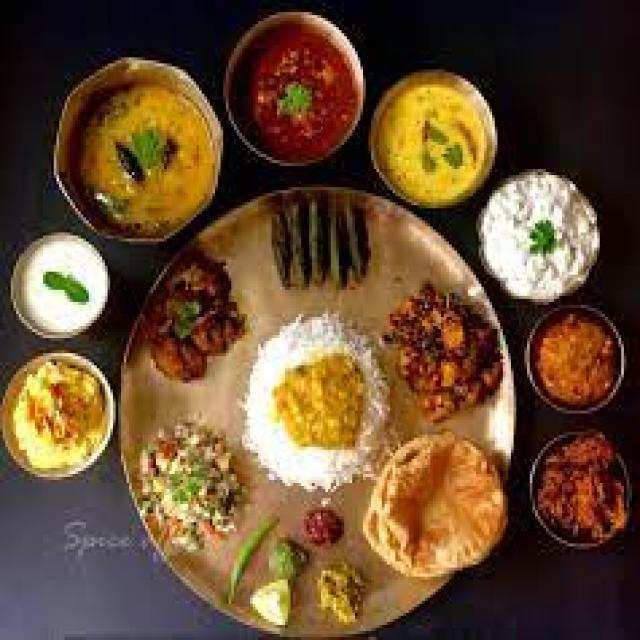curd: (1, 213, 128, 351)
dal: (71, 75, 220, 248)
pickle: (292, 500, 350, 551)
raita: (4, 220, 127, 345)
rice: (471, 167, 603, 307)
roti: (369, 427, 518, 576)
sweet: (235, 309, 379, 499), (524, 431, 633, 550), (5, 356, 110, 475), (523, 309, 631, 421)
